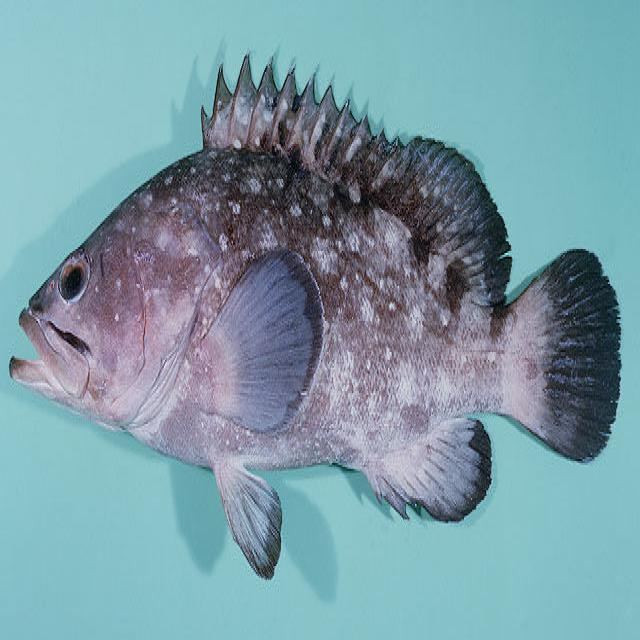ikan: (8, 49, 622, 582)
